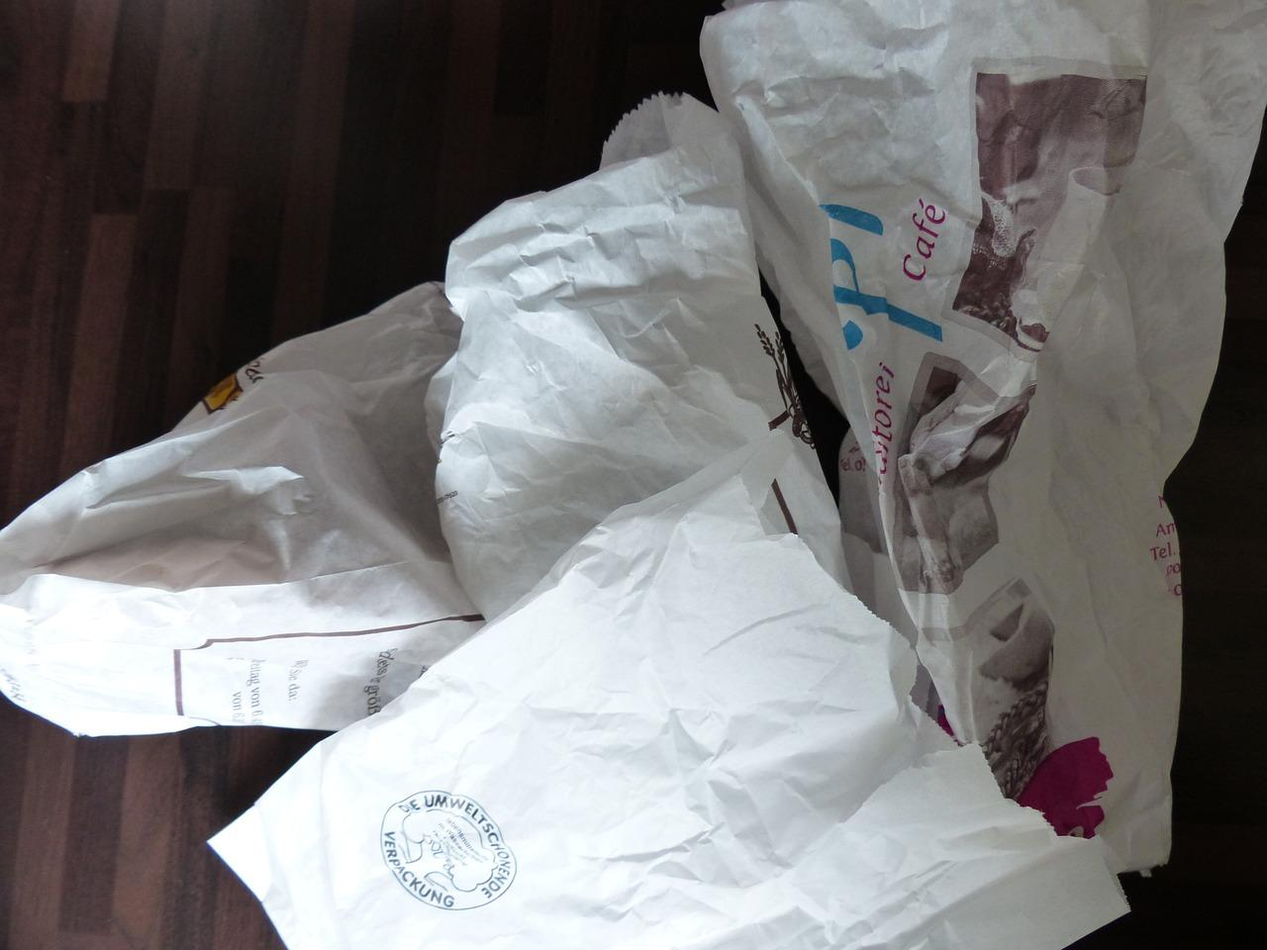Paper: (686, 0, 1267, 883), (197, 444, 1144, 950), (0, 277, 474, 749), (428, 83, 812, 621)
